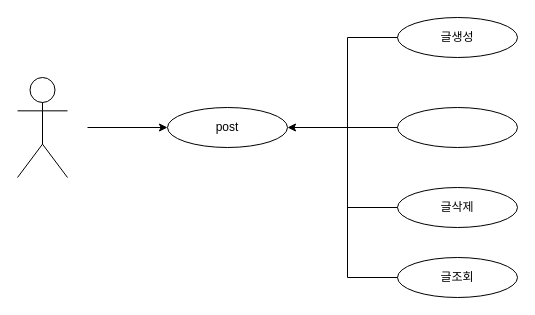
Some shapes in this 535 by 315 pixel diagram are drawn without their labels. Here are the shapes that lost their labels. From the top down, the centre of each, then its label:
At point 42,127: "사용자".
At point 457,127: "글수정".
